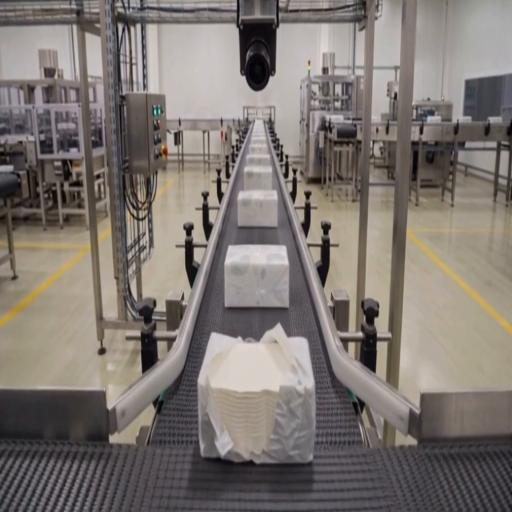defective: (198, 328, 315, 464)
good: (224, 245, 289, 309), (236, 190, 280, 230), (243, 164, 273, 190), (246, 143, 271, 166), (247, 133, 270, 151), (250, 120, 267, 134)
